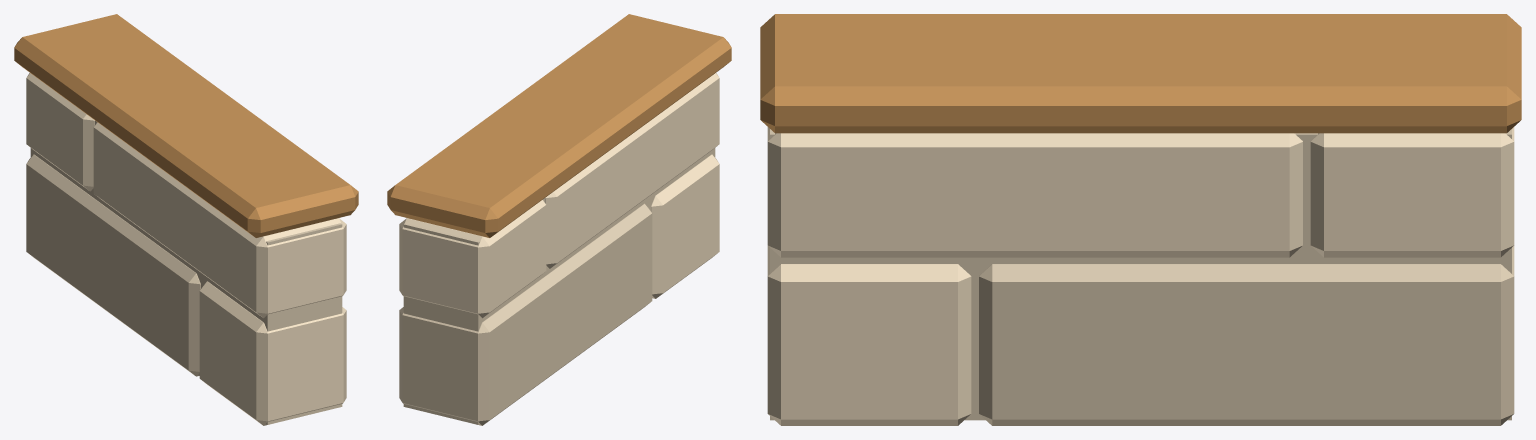
Rendered from mod_wall_curved_r2.20_n14_lip.glb.
The picture shows the model from 3 angles, left to right: view 1: azimuth 30°, elevation 25°; view 2: azimuth 150°, elevation 25°; view 3: azimuth 270°, elevation 25°; orthographic projection. The views are drawn at different scales.
Visible parts, largest first — view 1: mod_wall_curved_r2.20_n14_lip; view 2: mod_wall_curved_r2.20_n14_lip; view 3: mod_wall_curved_r2.20_n14_lip.
Boxes of the visible parts, bbox=[...] form: mod_wall_curved_r2.20_n14_lip: bbox=[14, 14, 358, 425]; mod_wall_curved_r2.20_n14_lip: bbox=[387, 14, 731, 425]; mod_wall_curved_r2.20_n14_lip: bbox=[760, 14, 1521, 425].
Size of the model in its own units: 0.27 by 0.515 by 1.02.
